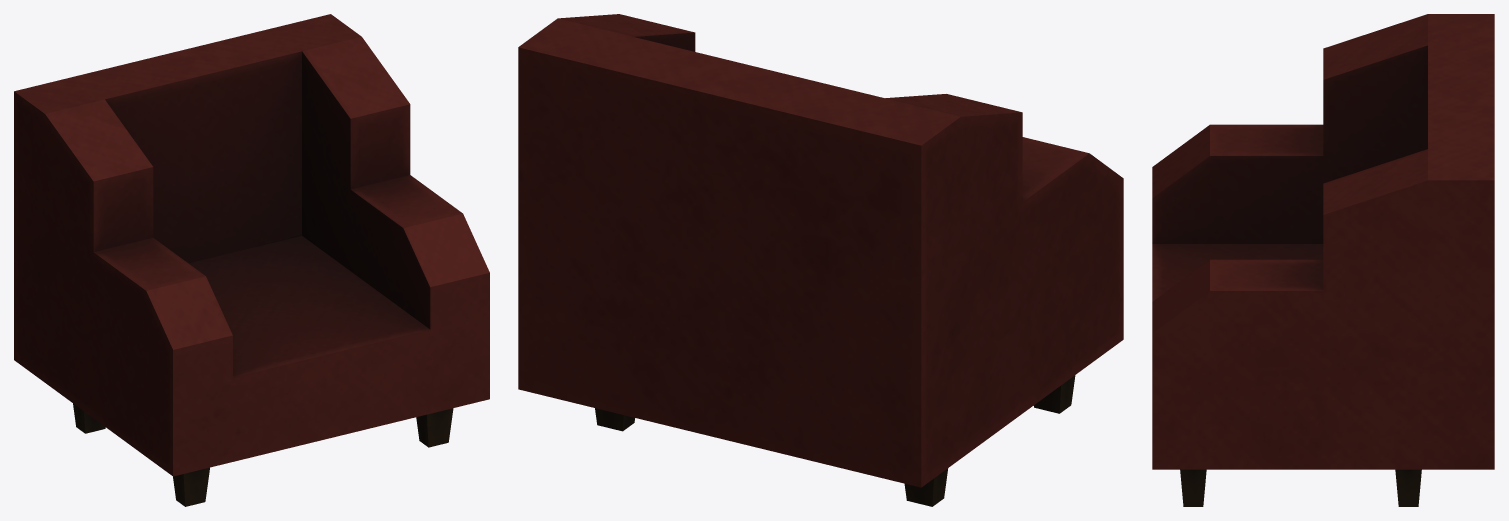
Rendered from Sofa.fbx.
3 renders of one model, left to right at view 1: azimuth 30°, elevation 25°; view 2: azimuth 150°, elevation 25°; view 3: azimuth 270°, elevation 25°, orthographic. The views are drawn at different scales.
Visible parts, largest first — view 1: Sofa; view 2: Sofa; view 3: Sofa.
Part boxes in pixels (box(x1,y1,x2,y2)): Sofa: box(14, 14, 489, 506); Sofa: box(518, 14, 1123, 506); Sofa: box(1152, 14, 1494, 506).
Size of the model in its own units: 69.46 by 66.28 by 60.41.
